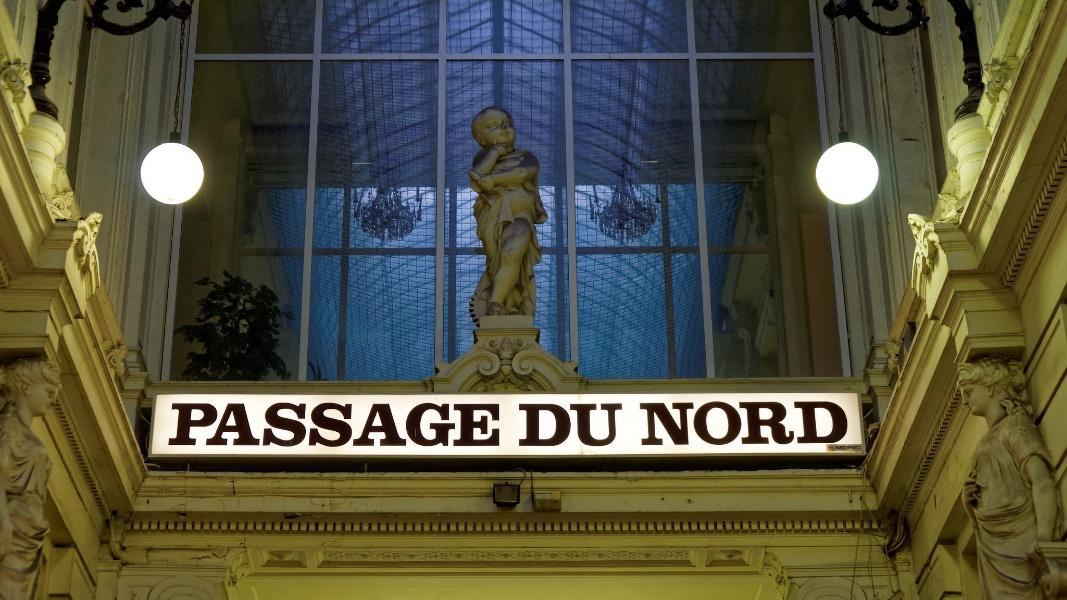text: (641, 399, 656, 445), (657, 399, 672, 445), (673, 399, 688, 445), (689, 399, 704, 445), (705, 399, 720, 445), (721, 399, 736, 445), (737, 399, 752, 445), (753, 399, 768, 445), (769, 399, 784, 445), (785, 399, 800, 445), (801, 399, 816, 445), (817, 399, 832, 445), (833, 399, 848, 445), (177, 403, 192, 447), (193, 403, 208, 447), (209, 403, 224, 447), (225, 403, 240, 447), (241, 403, 256, 447), (257, 403, 272, 447), (273, 403, 288, 447), (289, 403, 304, 447), (305, 403, 320, 447), (321, 403, 336, 447), (337, 403, 352, 447), (353, 403, 368, 447), (369, 403, 384, 447), (385, 403, 400, 447), (401, 403, 416, 447), (417, 403, 432, 447), (433, 403, 448, 447), (449, 403, 464, 447), (465, 403, 480, 447), (481, 403, 496, 447), (529, 403, 544, 446), (545, 403, 560, 446), (561, 403, 576, 446), (577, 403, 592, 446), (593, 403, 608, 446), (609, 403, 623, 446), (520, 403, 528, 446), (171, 403, 176, 447), (497, 403, 500, 447), (835, 445, 848, 451), (849, 445, 862, 451), (849, 399, 850, 445), (830, 447, 832, 449)
